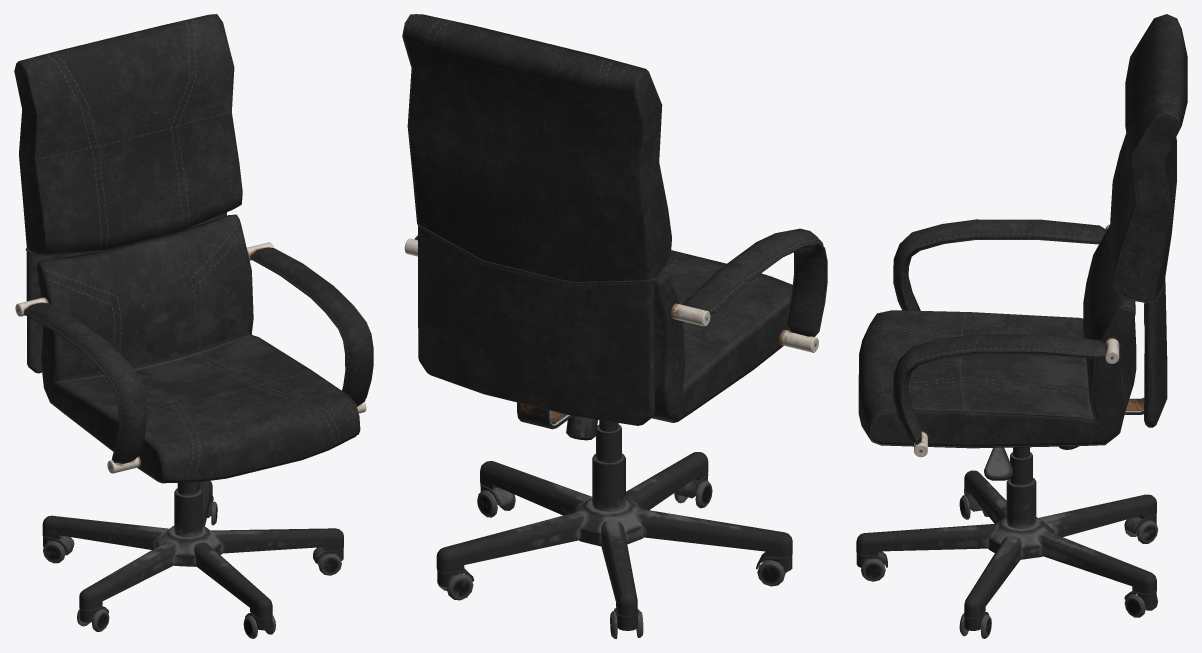
File: chair_high.gltf
3 renders of one model, left to right at view 1: azimuth 30°, elevation 25°; view 2: azimuth 150°, elevation 25°; view 3: azimuth 270°, elevation 25°, orthographic. The views are drawn at different scales.
Visible parts, largest first — view 1: chair_daddy_low013, chair_daddy_low015, chair_daddy_low003, chair_daddy_low010, lower005, lower019, lower016, lower015, chair_daddy_low014, lower007, lower017, lower013 (+5 smaller); view 2: chair_daddy_low015, chair_daddy_low014, chair_daddy_low013, chair_daddy_low003, lower016, lower004, lower007, lower005, lower019, lower015, lower017, pCylinder37 (+10 smaller); view 3: chair_daddy_low013, chair_daddy_low015, chair_daddy_low010, chair_daddy_low003, lower015, lower004, chair_daddy_low014, lower019, lower007, lower005, chair_daddy_low007, lower017 (+9 smaller).
Boxes of the visible parts, <box> form: chair_daddy_low013: <box>36,215,358,483</box>; chair_daddy_low015: <box>14,14,241,255</box>; chair_daddy_low003: <box>25,302,146,463</box>; chair_daddy_low010: <box>251,247,372,406</box>; lower005: <box>210,528,343,553</box>; lower019: <box>42,515,169,549</box>; lower016: <box>79,540,177,610</box>; lower015: <box>193,542,272,618</box>; chair_daddy_low014: <box>26,212,226,373</box>; lower007: <box>174,482,202,537</box>; lower017: <box>155,526,221,566</box>; lower013: <box>42,535,74,563</box>; chair_daddy_low015: <box>404,14,671,282</box>; chair_daddy_low014: <box>418,226,654,425</box>; chair_daddy_low013: <box>652,250,792,422</box>; chair_daddy_low003: <box>683,228,824,336</box>; lower016: <box>634,508,792,557</box>; lower004: <box>436,511,586,572</box>; lower007: <box>592,420,625,511</box>; lower005: <box>480,461,592,515</box>; lower019: <box>601,519,637,616</box>; lower015: <box>626,452,708,510</box>; lower017: <box>574,498,643,546</box>; pCylinder37: <box>756,552,792,586</box>; chair_daddy_low013: <box>858,225,1136,446</box>; chair_daddy_low015: <box>1110,14,1187,301</box>; chair_daddy_low010: <box>893,334,1106,443</box>; chair_daddy_low003: <box>893,219,1106,310</box>; lower015: <box>856,523,998,555</box>; lower004: <box>1037,530,1156,594</box>; chair_daddy_low014: <box>1144,278,1167,427</box>; lower019: <box>1039,494,1156,536</box>; lower007: <box>1006,447,1036,528</box>; lower005: <box>964,534,1022,618</box>; chair_daddy_low007: <box>869,305,1134,448</box>; lower017: <box>988,517,1054,559</box>.
Bounding box in the file's own units: 0.7278 × 1.31 × 0.7651.
Materials: 37 (37 with a texture image).
